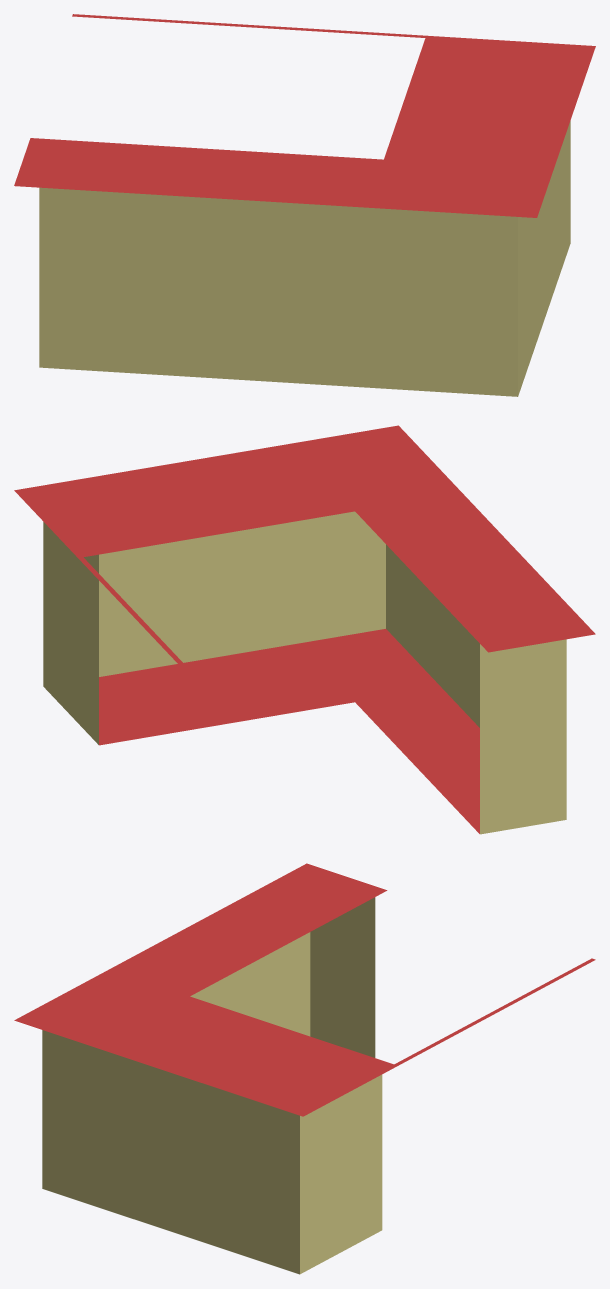
3 renders of one model, top to bottom at view 1: azimuth 30°, elevation 25°; view 2: azimuth 150°, elevation 25°; view 3: azimuth 270°, elevation 25°, orthographic. The views are drawn at different scales.
Visible parts, largest first — view 1: group_5, group_3, group_4; view 2: group_5, group_3, group_6, group_4; view 3: group_5, group_3, group_4.
Part boxes in pixels (x1=…): group_5: x1=39, y1=121, x2=570, y2=396; group_3: x1=14, y1=14, x2=595, y2=217; group_4: x1=16, y1=14, x2=592, y2=215; group_5: x1=43, y1=511, x2=566, y2=834; group_3: x1=14, y1=425, x2=595, y2=699; group_6: x1=99, y1=629, x2=479, y2=833; group_4: x1=26, y1=427, x2=594, y2=697; group_5: x1=42, y1=897, x2=382, y2=1274; group_3: x1=14, y1=863, x2=595, y2=1116; group_4: x1=21, y1=864, x2=593, y2=1109.
Bounding box in the file's own units: 22.37 × 21.71 × 6.99.
